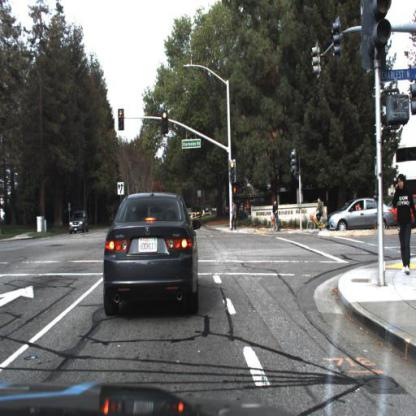biker: (302, 196, 333, 234), (307, 198, 328, 232), (267, 199, 284, 234), (271, 200, 281, 234)
car: (97, 192, 202, 310), (326, 199, 396, 230), (388, 195, 416, 225), (70, 211, 90, 234)
pedestrian: (394, 175, 412, 276), (230, 198, 241, 229), (231, 200, 239, 229)
trafficLight-Red: (372, 1, 396, 78), (374, 1, 389, 52), (162, 113, 169, 133), (230, 162, 237, 180)
trafficLight-RedLeft: (118, 108, 126, 133), (118, 111, 126, 128)
